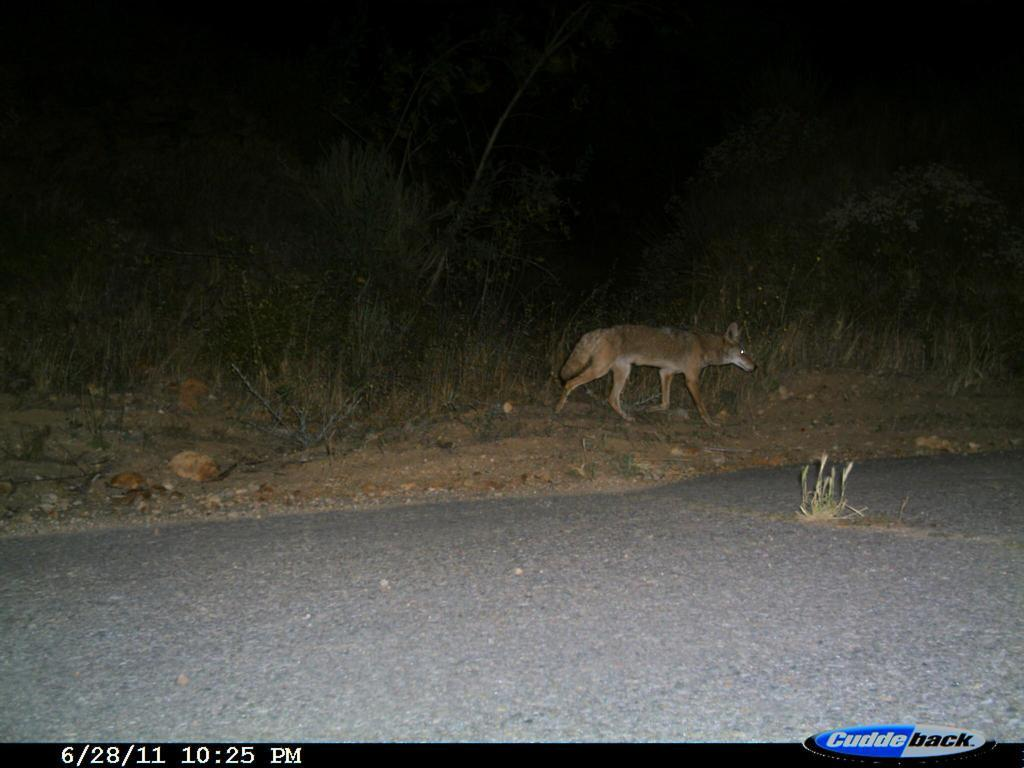coyote: (541, 306, 762, 437)
